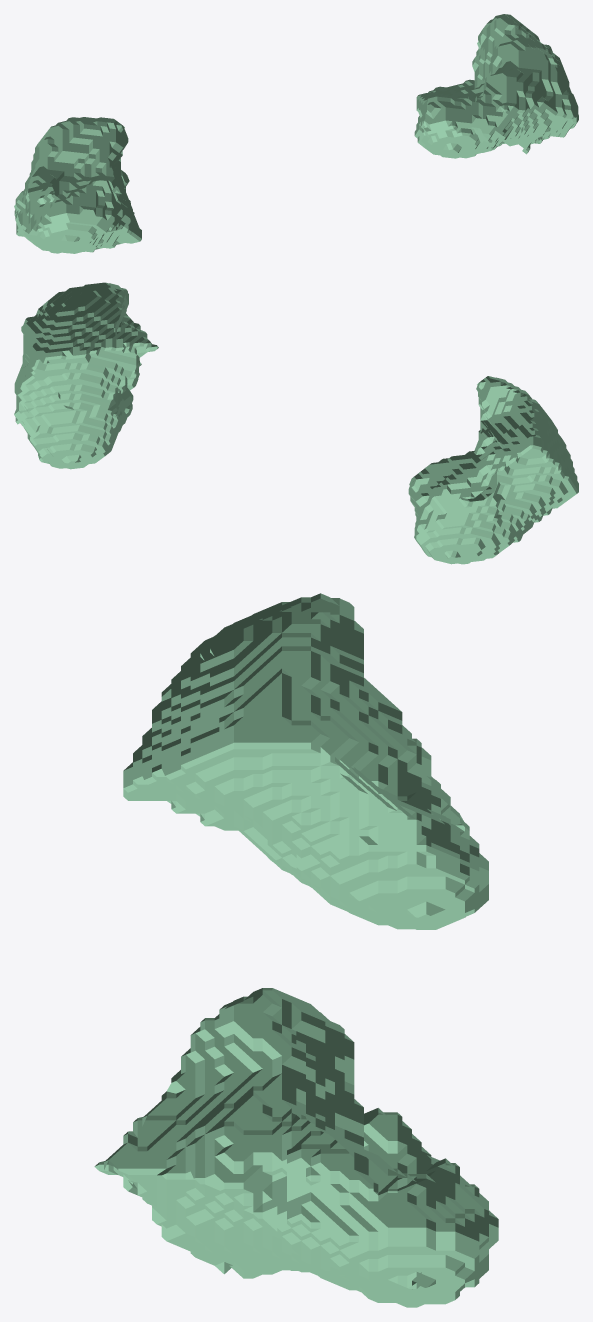
File: region_0108_PGl__lateral_preglomerular_nucleus_.glb
The picture shows the model from 3 angles, top to bottom: view 1: azimuth 30°, elevation 25°; view 2: azimuth 150°, elevation 25°; view 3: azimuth 270°, elevation 25°; orthographic projection. The views are drawn at different scales.
Visible parts, largest first — view 1: world; view 2: world; view 3: world.
Boxes of the visible parts, x1=… form: world: x1=14, y1=14, x2=578, y2=253; world: x1=14, y1=282, x2=578, y2=564; world: x1=94, y1=593, x2=498, y2=1307.
Size of the model in its own units: 1.03 by 0.272 by 0.336.
